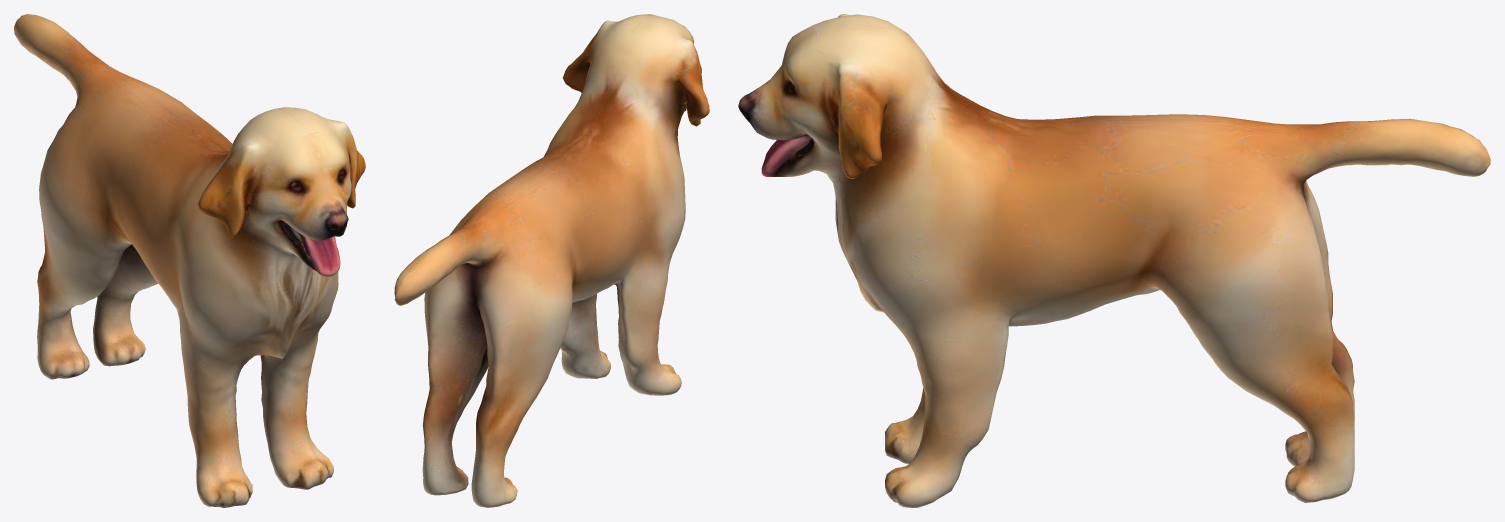
Rendered from dog.glb.
3 renders of one model, left to right at view 1: azimuth 30°, elevation 25°; view 2: azimuth 150°, elevation 25°; view 3: azimuth 270°, elevation 25°, orthographic. The views are drawn at different scales.
Size of the model in its own units: 0.5597 by 1.27 by 1.91.
Materials: 1 (1 with a texture image).
